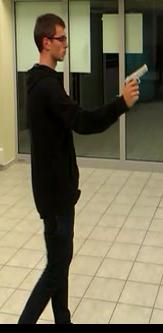pistol: (124, 64, 149, 103)
